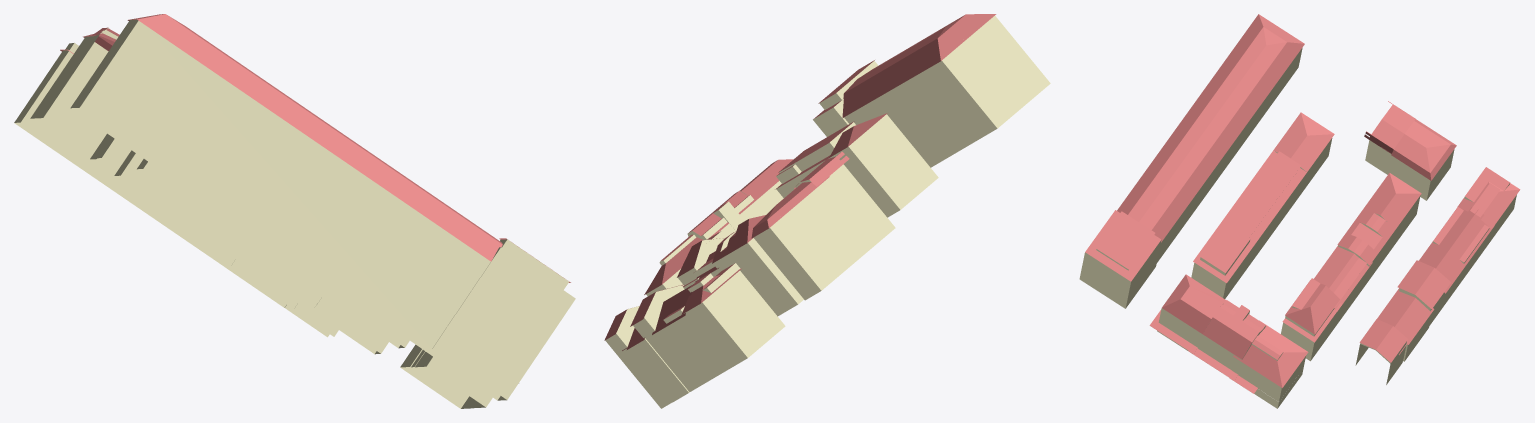
File: tile_089.glb
3 renders of one model, left to right at view 1: azimuth 30°, elevation 25°; view 2: azimuth 150°, elevation 25°; view 3: azimuth 270°, elevation 25°, orthographic. The views are drawn at different scales.
Visible parts, largest first — view 1: Batched_Building_ID_4CB80E54-85B0-4CAA-A757-5EF7E17DD94C, Batched_Building_ID_C097CDE8-B6E2-4D14-B230-2C11163458BC; view 2: Batched_Building_ID_4CB80E54-85B0-4CAA-A757-5EF7E17DD94C, Batched_Building_ID_C097CDE8-B6E2-4D14-B230-2C11163458BC; view 3: Batched_Building_ID_C097CDE8-B6E2-4D14-B230-2C11163458BC, Batched_Building_ID_4CB80E54-85B0-4CAA-A757-5EF7E17DD94C.
Part boxes in pixels (x1,y1,x2,y2): Batched_Building_ID_4CB80E54-85B0-4CAA-A757-5EF7E17DD94C: (14,19,575,408); Batched_Building_ID_C097CDE8-B6E2-4D14-B230-2C11163458BC: (60,14,570,282); Batched_Building_ID_4CB80E54-85B0-4CAA-A757-5EF7E17DD94C: (605,16,1050,408); Batched_Building_ID_C097CDE8-B6E2-4D14-B230-2C11163458BC: (604,14,996,350); Batched_Building_ID_C097CDE8-B6E2-4D14-B230-2C11163458BC: (1085,14,1520,393); Batched_Building_ID_4CB80E54-85B0-4CAA-A757-5EF7E17DD94C: (1079,48,1516,408).
Size of the model in its own units: 128 by 128 by 174.
